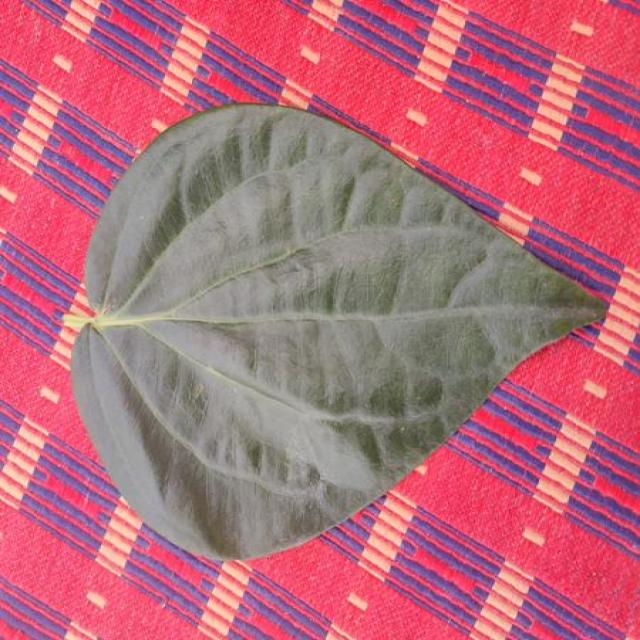betel: (67, 104, 605, 559)
